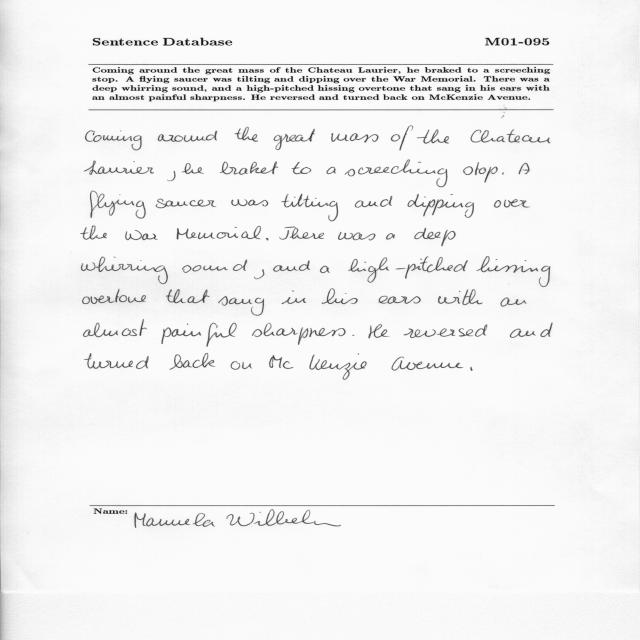word: (273, 257, 468, 283), (345, 160, 448, 187), (269, 353, 367, 380), (81, 257, 168, 284), (477, 257, 551, 287), (252, 323, 346, 345), (161, 323, 237, 347), (408, 194, 474, 218), (91, 191, 146, 219), (282, 194, 339, 221), (83, 320, 147, 338), (85, 131, 142, 151), (471, 129, 551, 143), (177, 226, 261, 239), (404, 325, 488, 338), (84, 353, 149, 369), (392, 357, 464, 371), (84, 161, 154, 175), (82, 289, 146, 304), (218, 296, 264, 316), (274, 129, 315, 150), (220, 161, 278, 175), (169, 353, 215, 370), (414, 228, 456, 246), (463, 162, 498, 183), (438, 289, 483, 305), (510, 322, 553, 338), (158, 131, 217, 142), (166, 289, 210, 303), (156, 199, 216, 209), (279, 227, 324, 240), (322, 289, 358, 304), (391, 126, 413, 150), (417, 129, 449, 144), (332, 133, 379, 143), (355, 196, 392, 208), (80, 226, 107, 240), (235, 127, 258, 142), (378, 296, 421, 304), (125, 230, 158, 240), (494, 199, 530, 208), (368, 324, 389, 339), (282, 291, 306, 304), (338, 232, 376, 240), (231, 199, 268, 207), (181, 163, 204, 174), (292, 162, 312, 174), (501, 298, 527, 307), (231, 361, 252, 370), (233, 260, 247, 271), (182, 265, 201, 273), (203, 266, 228, 271), (519, 163, 530, 174), (255, 270, 265, 280), (167, 171, 176, 181), (326, 167, 336, 174), (386, 233, 395, 240), (470, 367, 473, 371), (502, 173, 504, 175), (266, 238, 268, 240), (353, 335, 355, 336)
